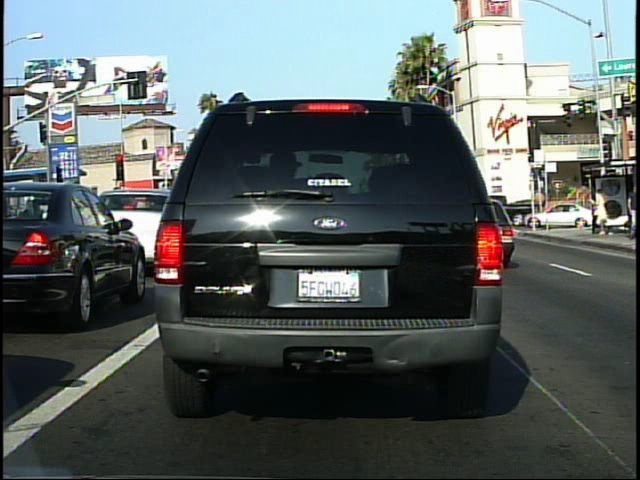person: (592, 183, 611, 240), (520, 200, 533, 228)
